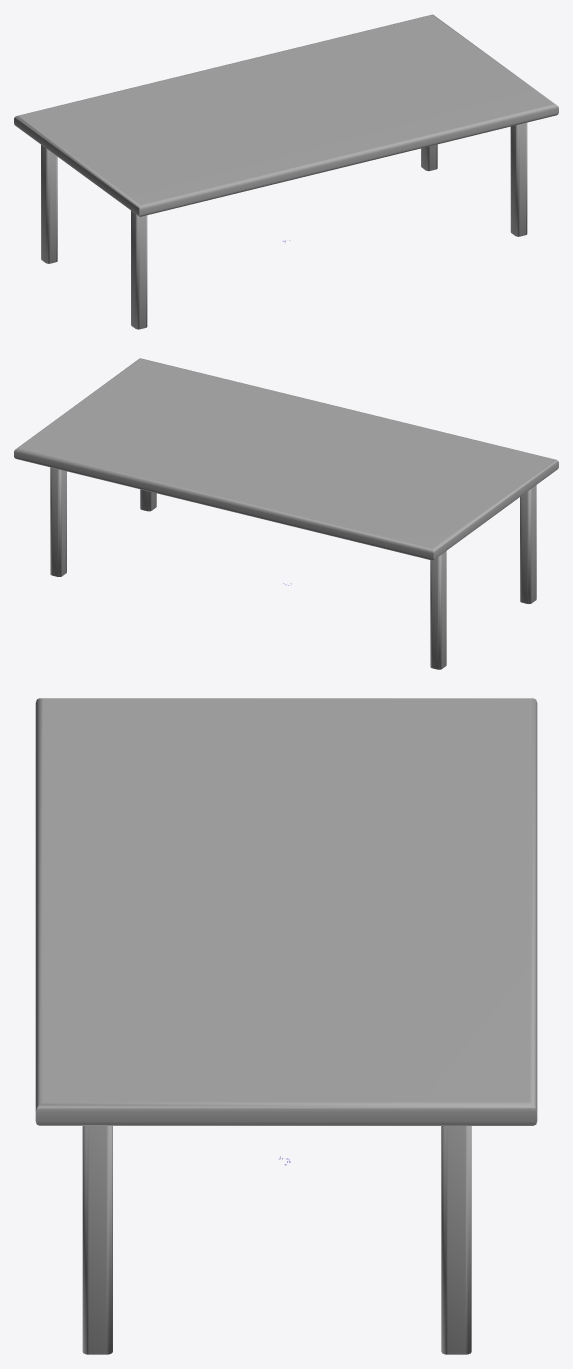
Rendered from table_plaholder.fbx.
The picture shows the model from 3 angles, top to bottom: view 1: azimuth 30°, elevation 25°; view 2: azimuth 150°, elevation 25°; view 3: azimuth 270°, elevation 25°; orthographic projection. The views are drawn at different scales.
Visible parts, largest first — view 1: pCube6; view 2: pCube6; view 3: pCube6.
Boxes of the visible parts, box(x1,y1,x2,y2) form: pCube6: box(14, 14, 558, 329); pCube6: box(14, 358, 558, 669); pCube6: box(35, 698, 537, 1354).
Size of the model in its own units: 193 by 58.95 by 100.
